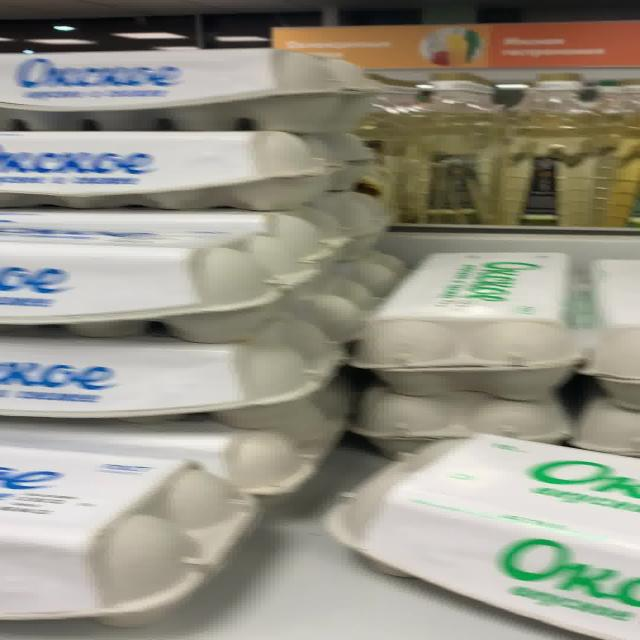egg box: (2, 41, 383, 138), (346, 252, 594, 397), (0, 127, 329, 213), (502, 70, 608, 224), (391, 74, 497, 224)
